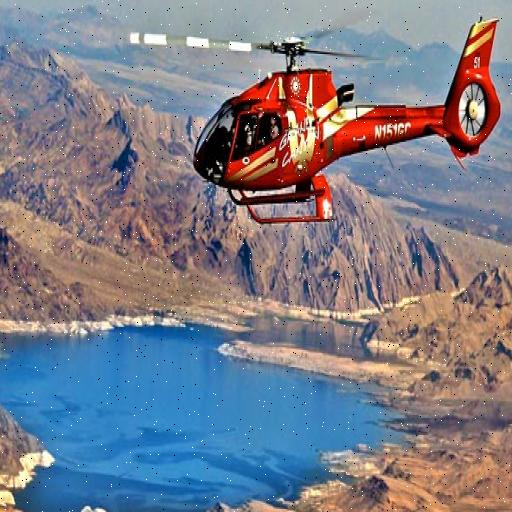helicopter: (120, 1, 512, 248)
